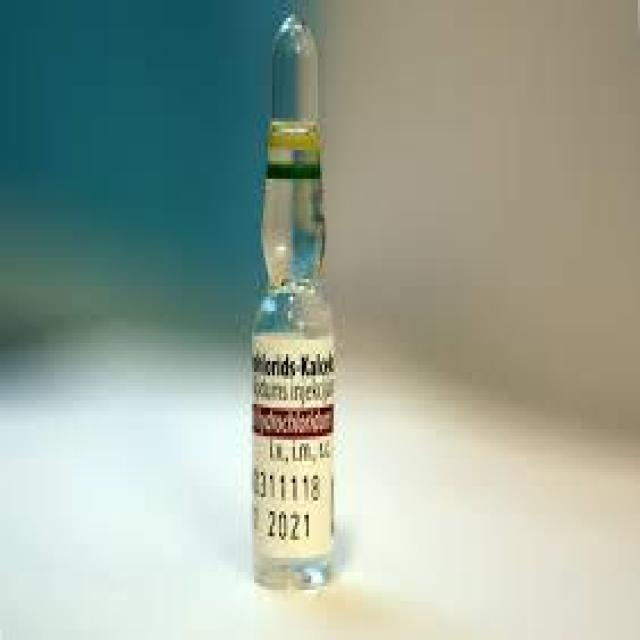B3: (230, 7, 356, 601)
